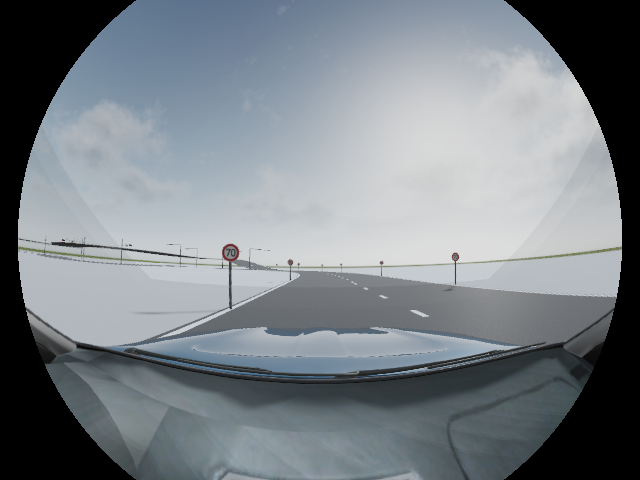Speed Limit 70: (222, 243, 239, 261)
